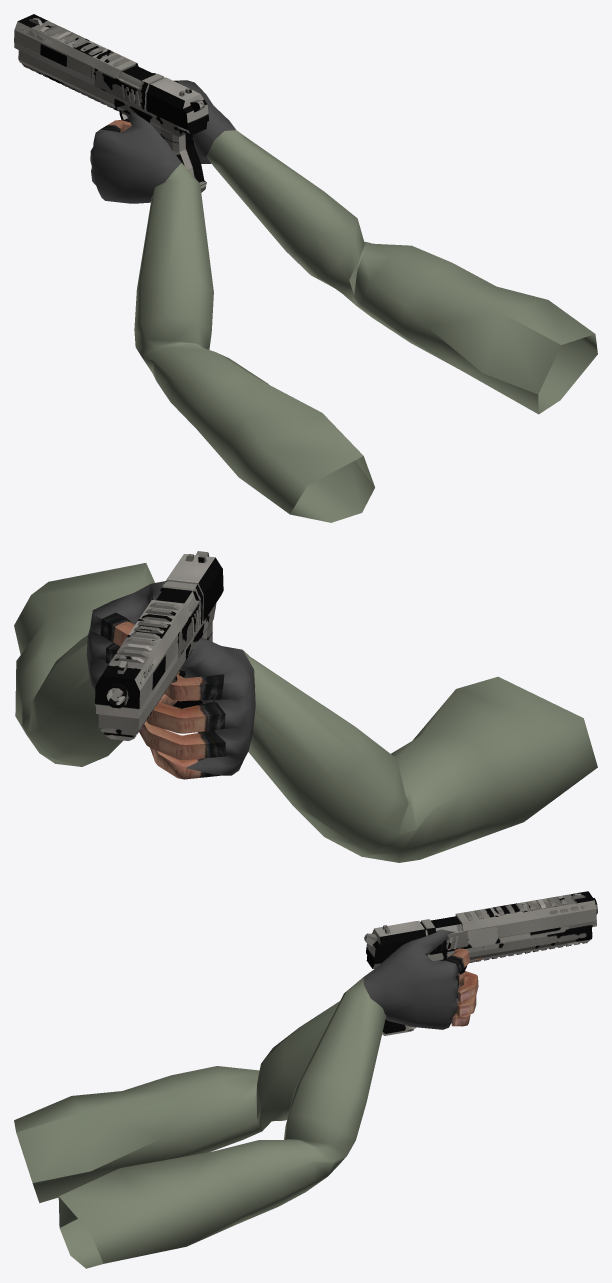
Rendered from gun_eagle.glb.
3 renders of one model, top to bottom at view 1: azimuth 30°, elevation 25°; view 2: azimuth 150°, elevation 25°; view 3: azimuth 270°, elevation 25°, orthographic. The views are drawn at different scales.
Parts seen in each view (by area): view 1: body_sleeve, slide_QUAT, body_glove, body_QUAT, body_QUATP, slide_QUATP; view 2: body_sleeve, slide_QUAT, body_glove, body_ARMS, body_QUAT, slide_QUATP, body_QUATP; view 3: body_sleeve, slide_QUAT, body_glove, body_QUAT, body_ARMS, slide_QUATP.
Part boxes in pixels (x1,y1,x2,y2): body_sleeve: (134,130,597,522); slide_QUAT: (14,14,209,130); body_glove: (90,73,235,203); body_QUAT: (18,50,207,136); body_QUATP: (21,63,200,169); slide_QUATP: (40,24,129,66); body_sleeve: (14,563,597,862); slide_QUAT: (95,551,223,718); body_glove: (86,581,255,775); body_ARMS: (100,612,225,779); body_QUAT: (98,603,216,737); slide_QUATP: (114,602,180,663); body_QUATP: (103,622,212,740); body_sleeve: (14,977,386,1268); slide_QUAT: (364,891,596,964); body_glove: (363,929,474,1029); body_QUAT: (366,927,592,974); body_ARMS: (444,948,482,1026); slide_QUATP: (464,896,566,920).
Size of the model in its own units: 53.77 by 42.38 by 77.73.
Materials: 5 (3 with a texture image).
